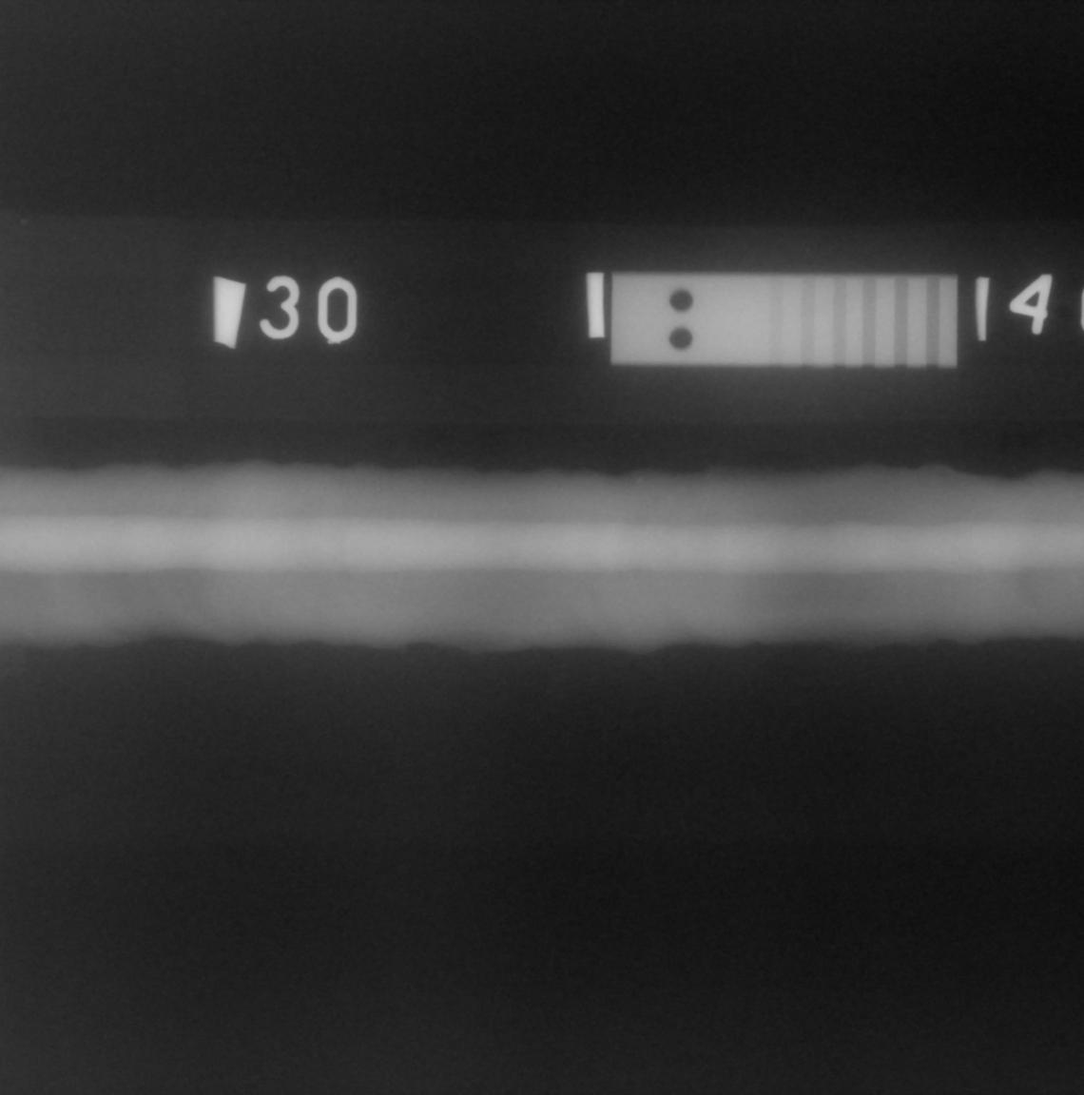Reference Standard 2: (611, 273, 957, 369)
